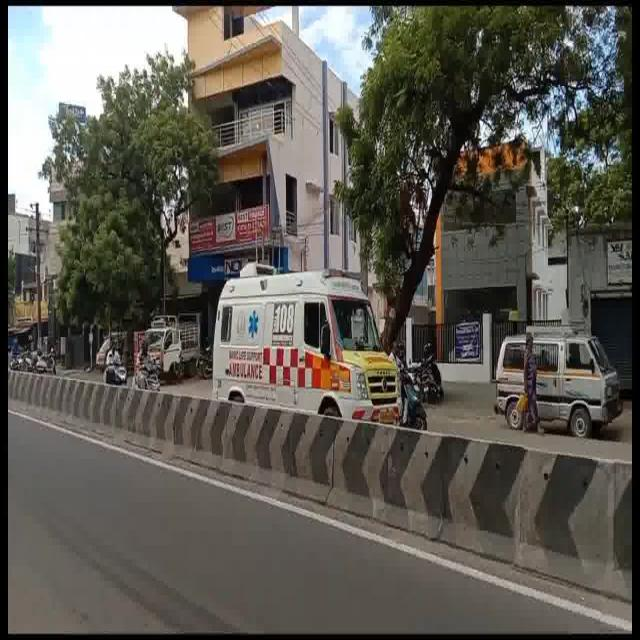ambulance: (214, 263, 403, 432)
